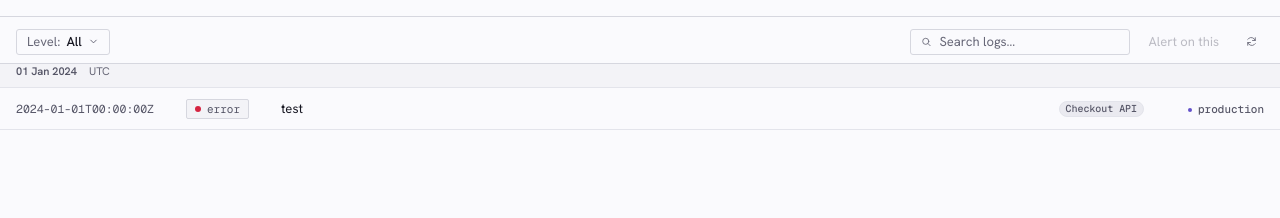
LogsView › expanded row details › renders object attribute values as JSON
Click the row "2024-01-01T00:00:00Z error test Checkout API production": (640, 108) [0,88,1279,130]
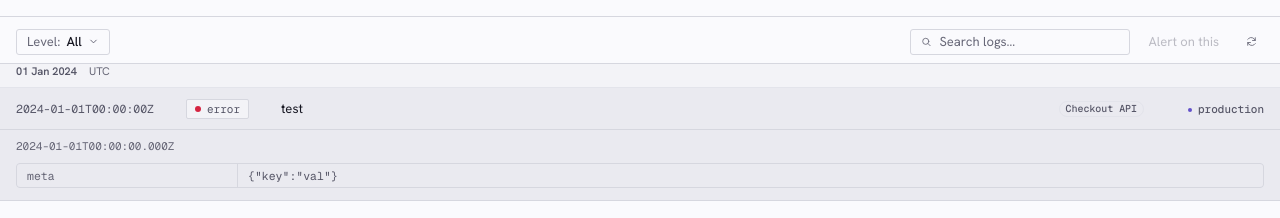
Expected: the text "{\"key\":\"val\"}" is shown, [238,164,1263,187]
